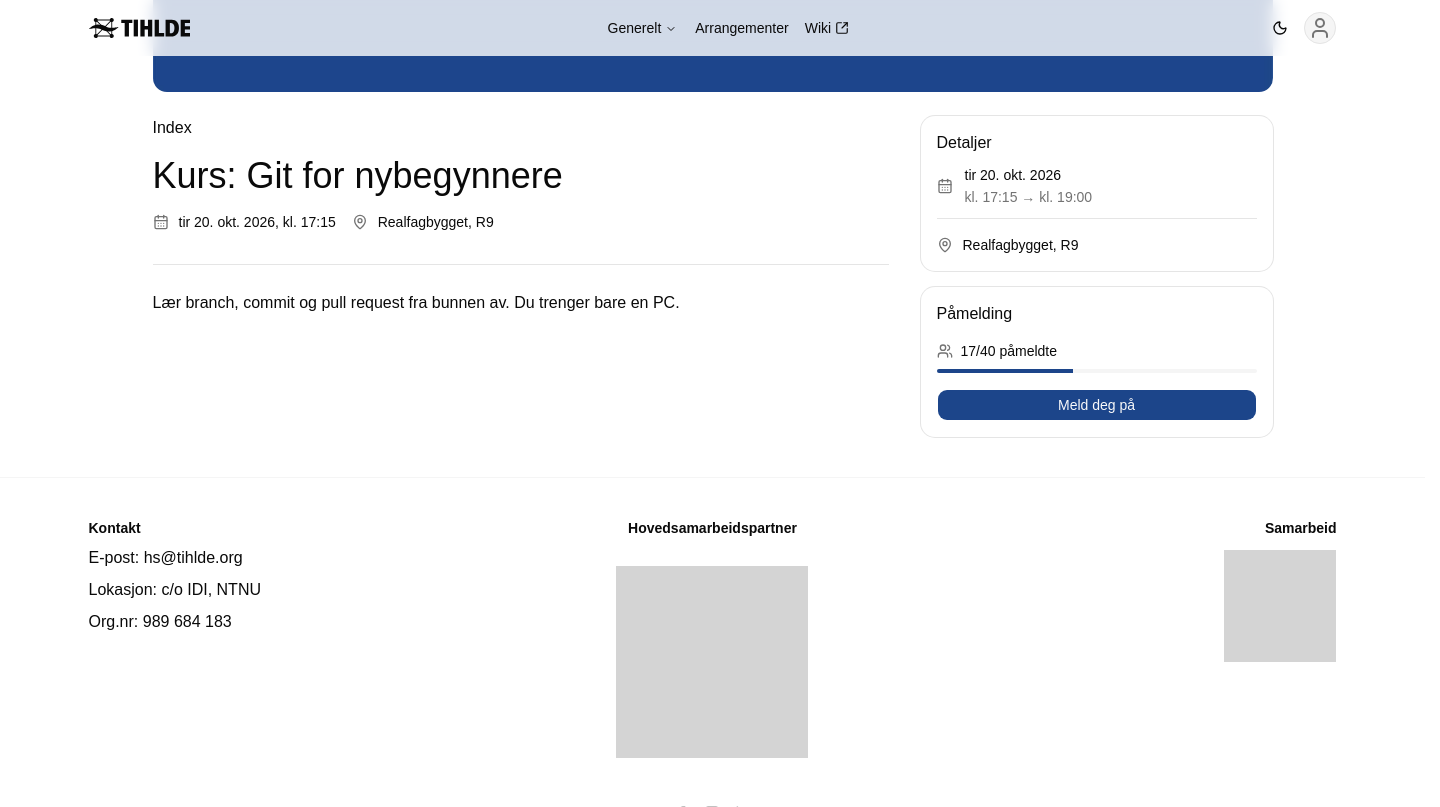
arrangementer › lar deg melde deg på og av et arrangement
The image size is (1440, 807).
(page scrolled)
Expected: the text "17/40 påmeldte" is shown, [960,341,1057,361]
Click the button "Meld deg på" at (1096, 405), box [936,389,1256,421]
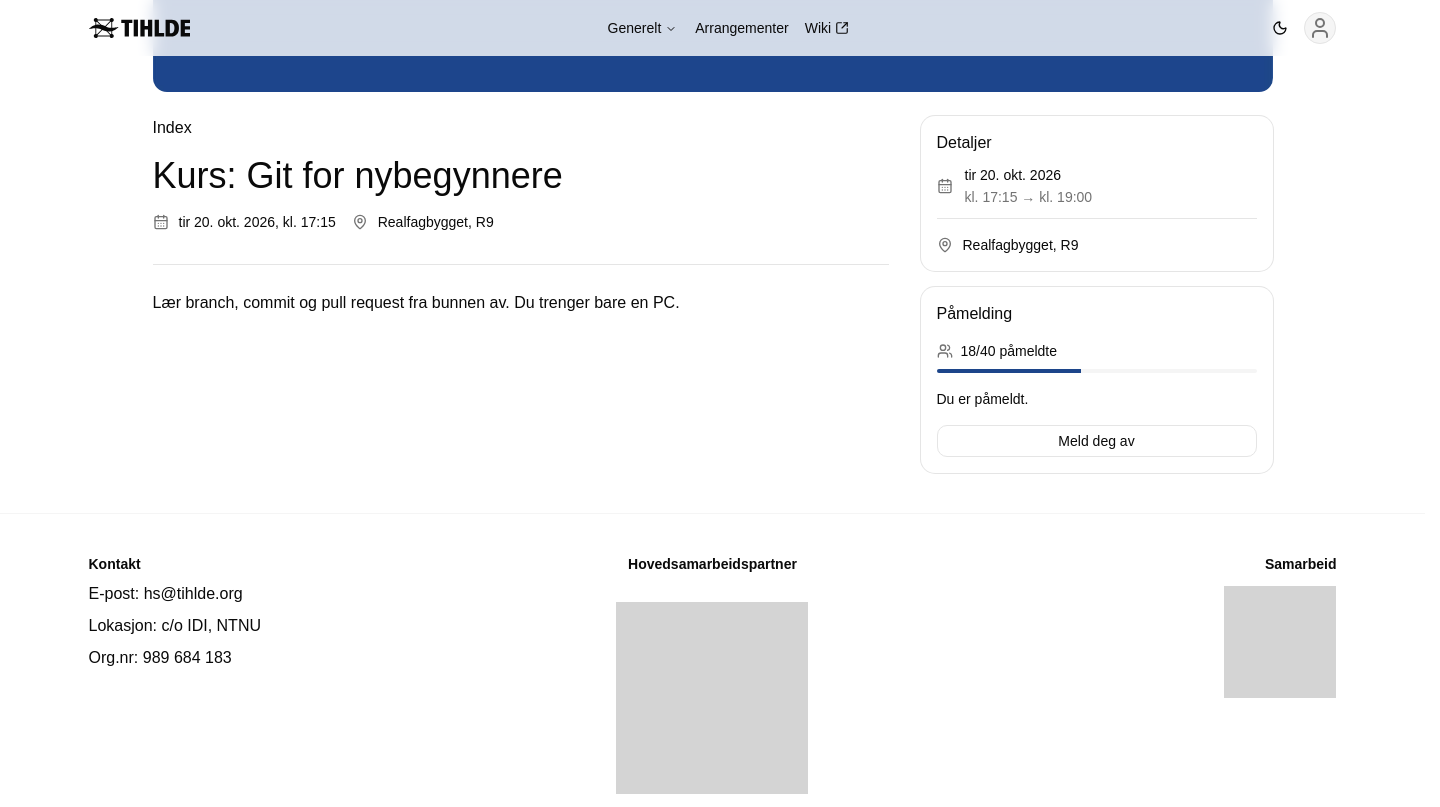
Expected: the text "Du er påmeldt." is shown, [936,391,1028,407]
Expected: the text "18/40 påmeldte" is shown, [960,341,1057,361]
Click the button "Meld deg av" at (1096, 441), box [936,425,1256,457]
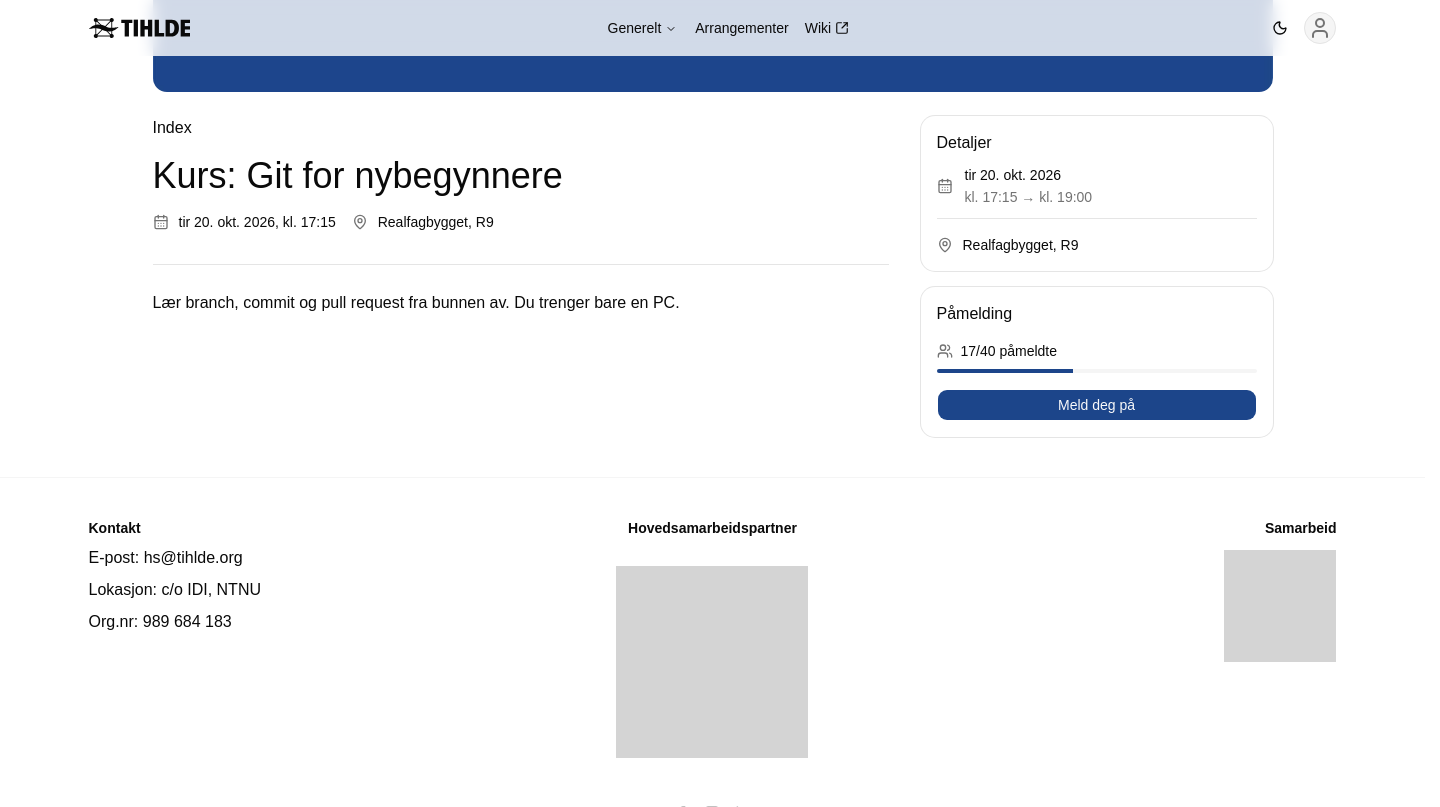
Expected: the text "17/40 påmeldte" is shown, [960,341,1057,361]
